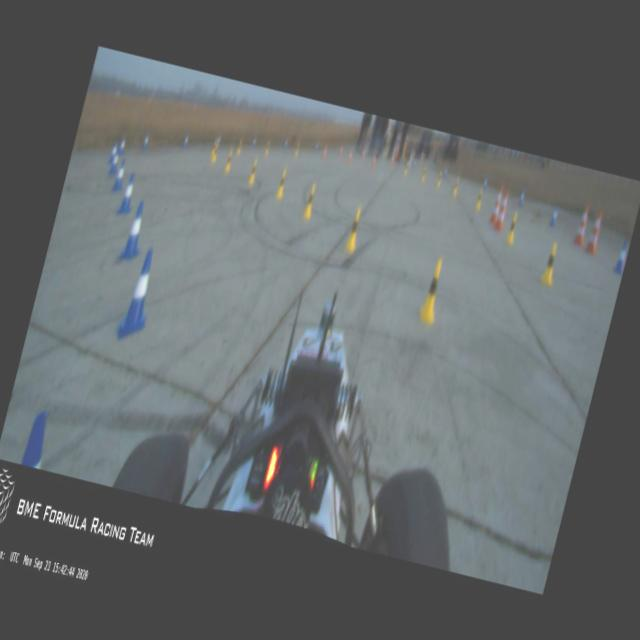blue_cone: (115, 246, 162, 340), (20, 407, 54, 469), (120, 198, 152, 262), (117, 170, 139, 216), (611, 238, 630, 276), (112, 158, 128, 192), (109, 147, 122, 175), (548, 204, 560, 229), (107, 140, 117, 163), (140, 134, 150, 153), (517, 188, 526, 207), (117, 138, 126, 156), (481, 174, 488, 192), (250, 134, 257, 149), (182, 134, 189, 148), (282, 137, 288, 150), (412, 156, 418, 168), (442, 166, 448, 178), (312, 142, 318, 154)
large_orange_cone: (584, 208, 605, 254), (572, 202, 592, 246), (492, 186, 512, 230), (488, 184, 504, 224)
orange_cone: (320, 145, 328, 160), (345, 150, 352, 166), (359, 146, 366, 161), (370, 153, 376, 168), (389, 153, 395, 165), (338, 144, 343, 157)
yellow_cone: (416, 258, 449, 324), (537, 239, 562, 287), (342, 207, 364, 253), (301, 184, 319, 222), (504, 209, 522, 244), (274, 171, 288, 199), (222, 149, 235, 174), (246, 161, 258, 186), (473, 187, 485, 212), (450, 176, 460, 198), (434, 168, 444, 190), (210, 144, 219, 164), (234, 137, 243, 156), (420, 164, 428, 182), (262, 138, 270, 156), (292, 141, 300, 159), (210, 138, 218, 155), (402, 160, 410, 176)
